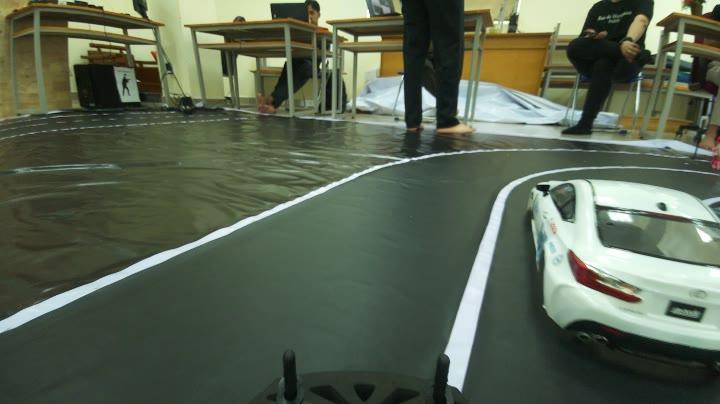car: (518, 164, 716, 362)
